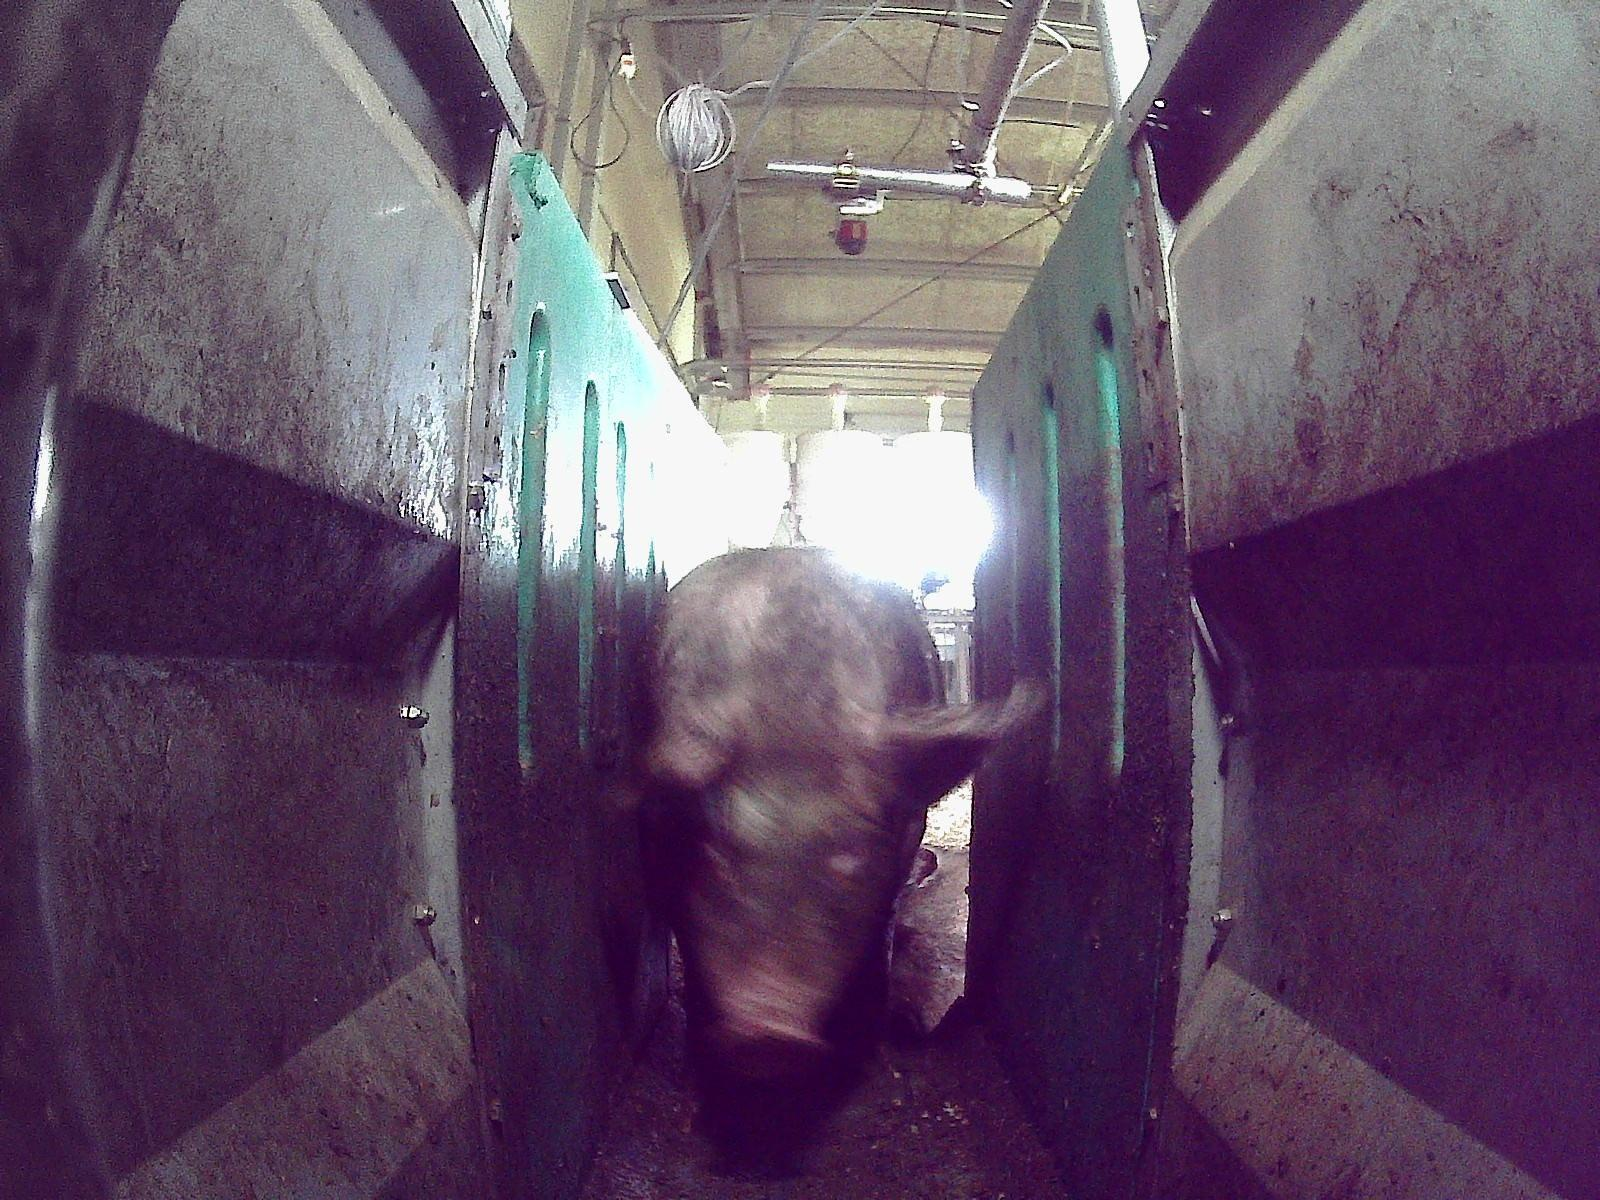Face: (681, 734, 902, 1072)
